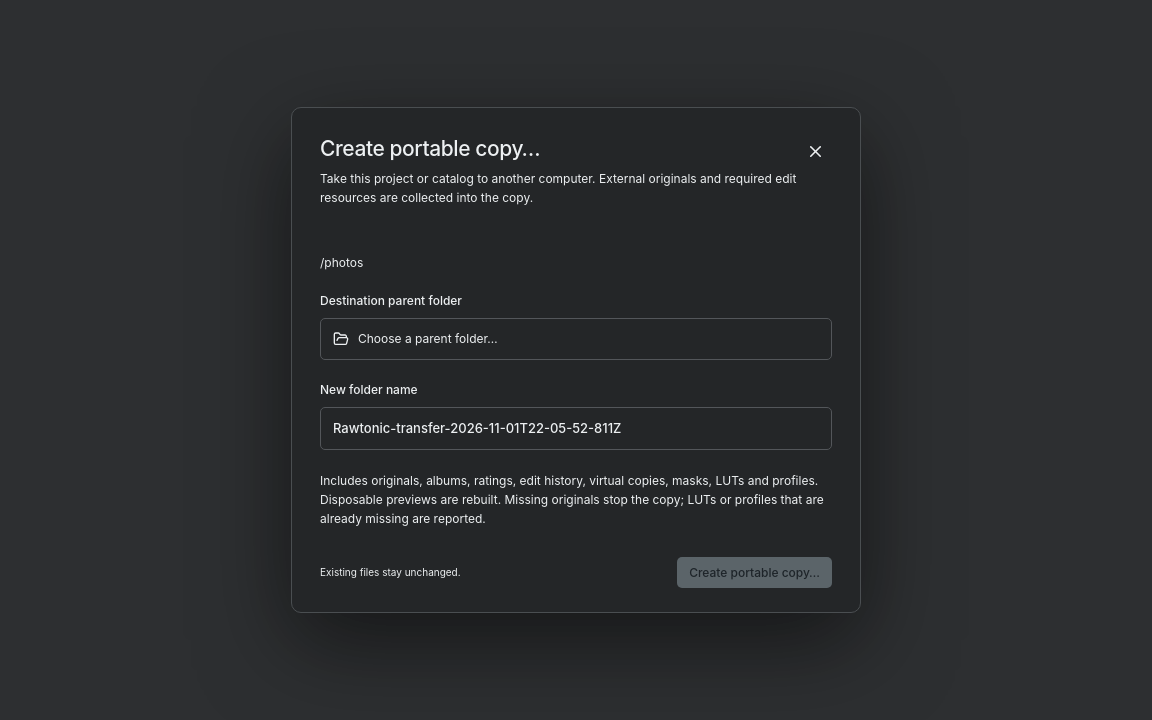
Scenario: blocks the snapshot when pending edits could not be saved
Click the button named "Destination parent folder" at (428, 338), box [320,318,832,360]
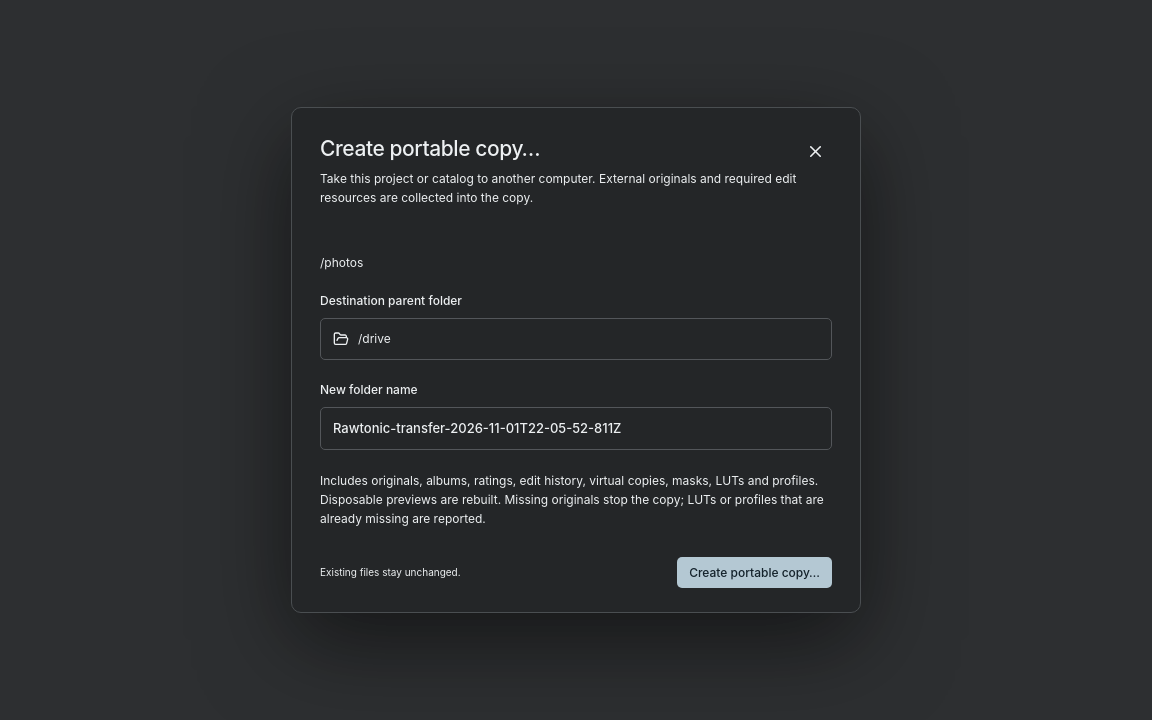
Click the button "Create portable copy…" at (755, 572), box [677,557,832,588]
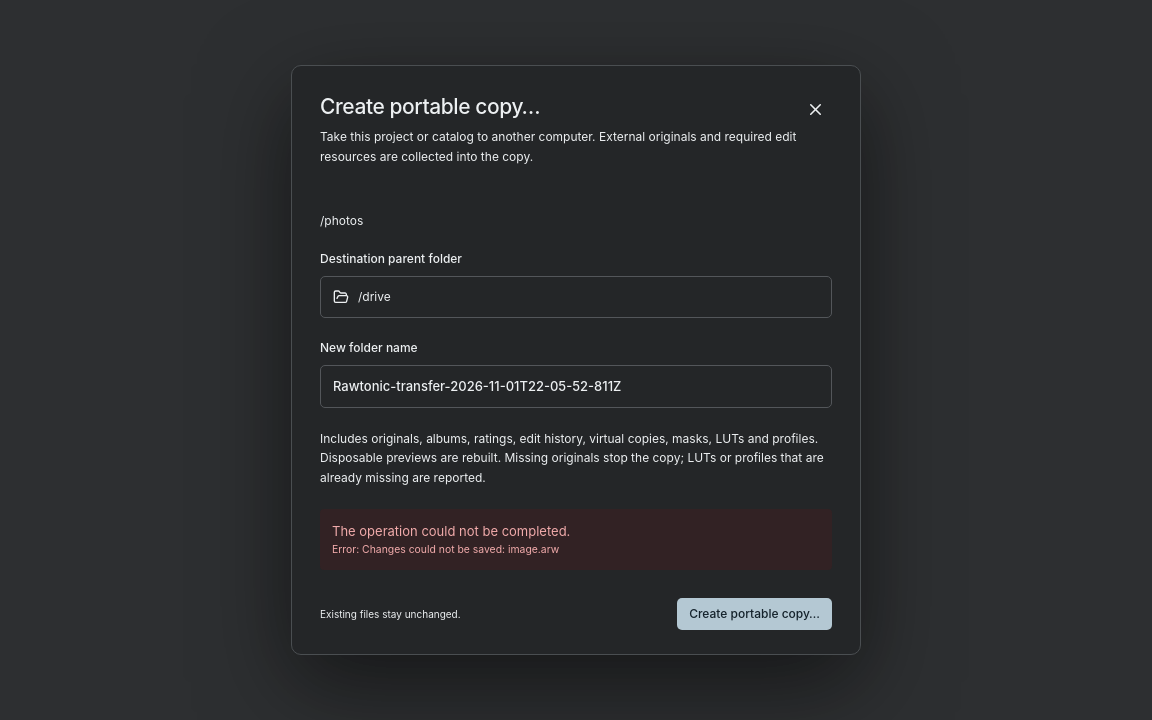
Now the message shows "image.arw", box [332,543,559,556]
